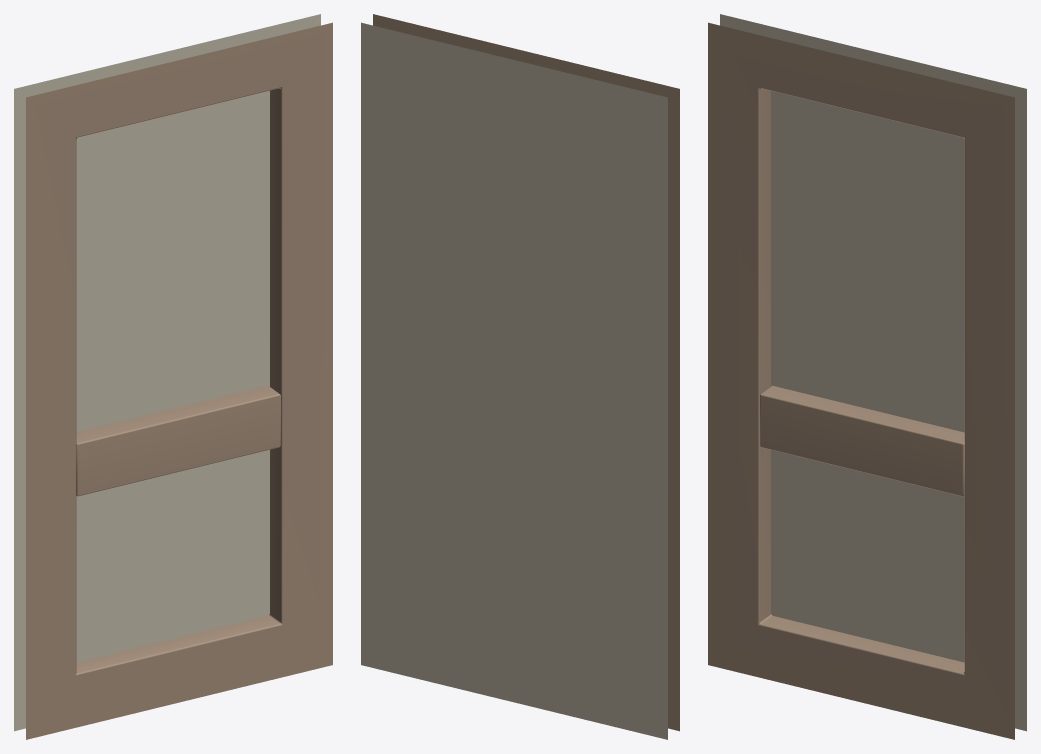
The model's file is tav_s_wall.fbx.
3 views of the same model, side by side, from view 1: azimuth 30°, elevation 25°; view 2: azimuth 150°, elevation 25°; view 3: azimuth 330°, elevation 25° (orthographic).
Parts seen in each view (by area): view 1: wallframe, wall; view 2: wall, wallframe; view 3: wallframe, wall.
Part boxes in pixels (bbox=[...]): wallframe: bbox=[26, 22, 332, 739]; wall: bbox=[14, 14, 320, 731]; wall: bbox=[361, 22, 667, 739]; wallframe: bbox=[373, 14, 679, 731]; wallframe: bbox=[708, 22, 1014, 739]; wall: bbox=[720, 14, 1026, 731].
Bounding box in the file's own units: 150 × 300 × 10.
